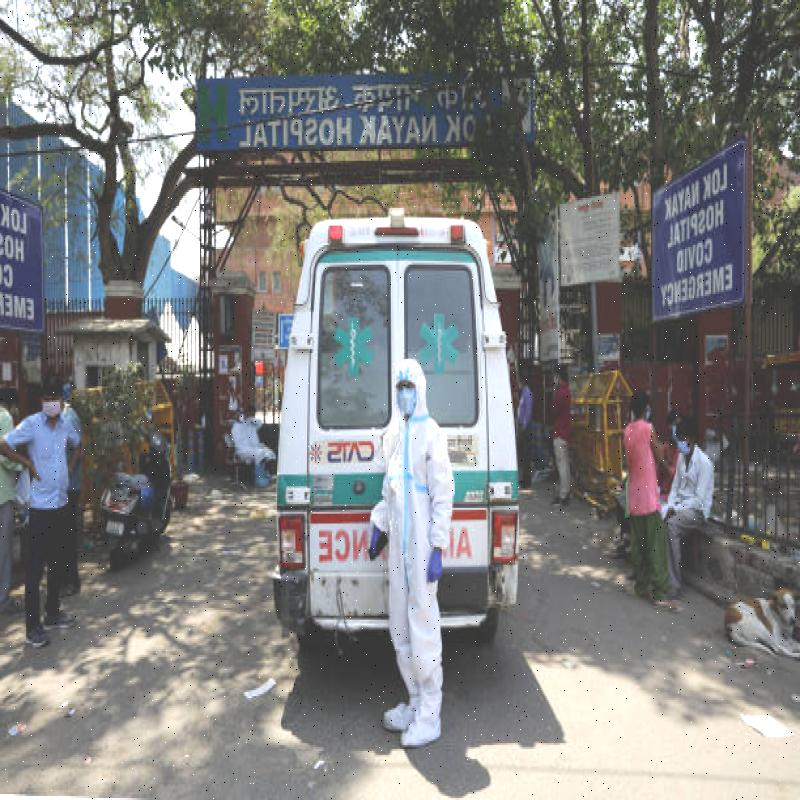ambulance: (240, 192, 524, 701)
